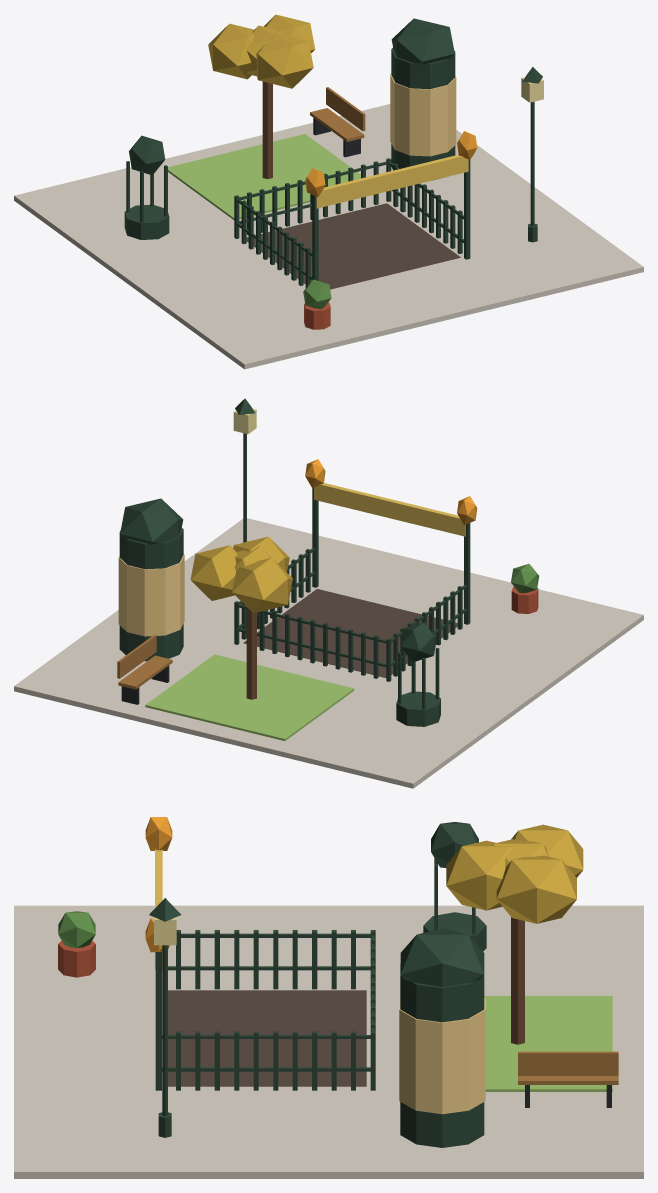
The model's file is Park_cim_metro_Hafif.fbx.
3 renders of one model, top to bottom at view 1: azimuth 30°, elevation 25°; view 2: azimuth 150°, elevation 25°; view 3: azimuth 270°, elevation 25°, orthographic. The views are drawn at different scales.
Parts seen in each view (by area): view 1: Park_cim_metro_Hafif; view 2: Park_cim_metro_Hafif; view 3: Park_cim_metro_Hafif.
Boxes of the visible parts, left/top/right/bottom form: Park_cim_metro_Hafif: left=14, top=14, right=643, bottom=369; Park_cim_metro_Hafif: left=14, top=398, right=643, bottom=788; Park_cim_metro_Hafif: left=14, top=817, right=643, bottom=1178.
Bounding box in the file's own units: 10 × 4.75 × 10.
